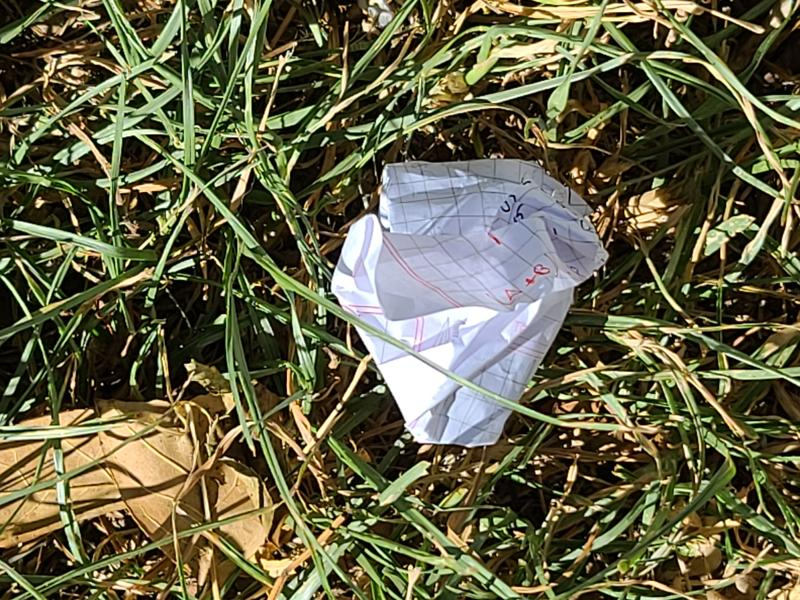papel: (330, 157, 607, 449)
